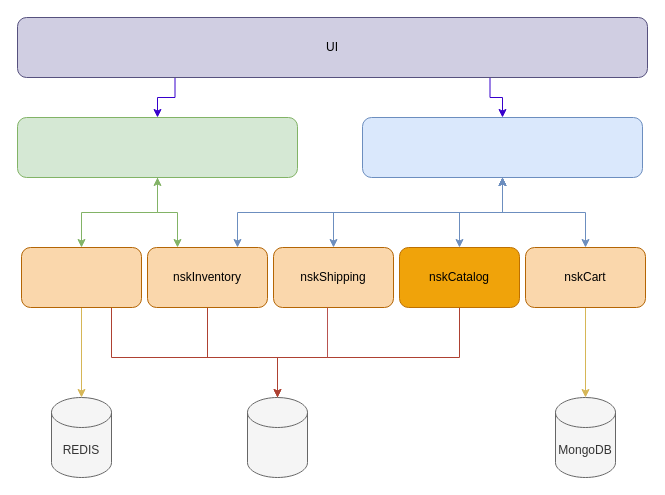
Some shapes in this 665 by 495 pixel diagram are drawn without their labels. The shapes that lost their labels are listed below. From the top down, each one's centre as x and y in pixels, then its label:
At pixel 157 147: "ADMIN API Gateway".
At pixel 502 147: "eCommerce API Gateway".
At pixel 81 277: "nskInvoice".
At pixel 277 437: "MySQL".
